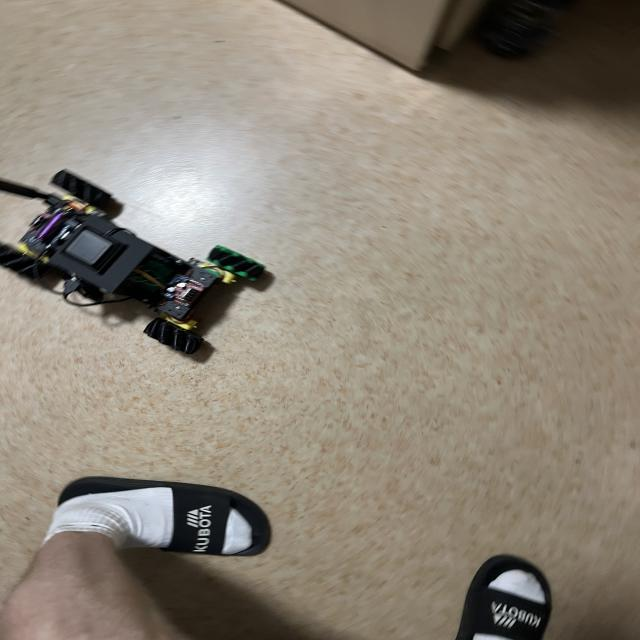robot: (0, 170, 265, 354)
